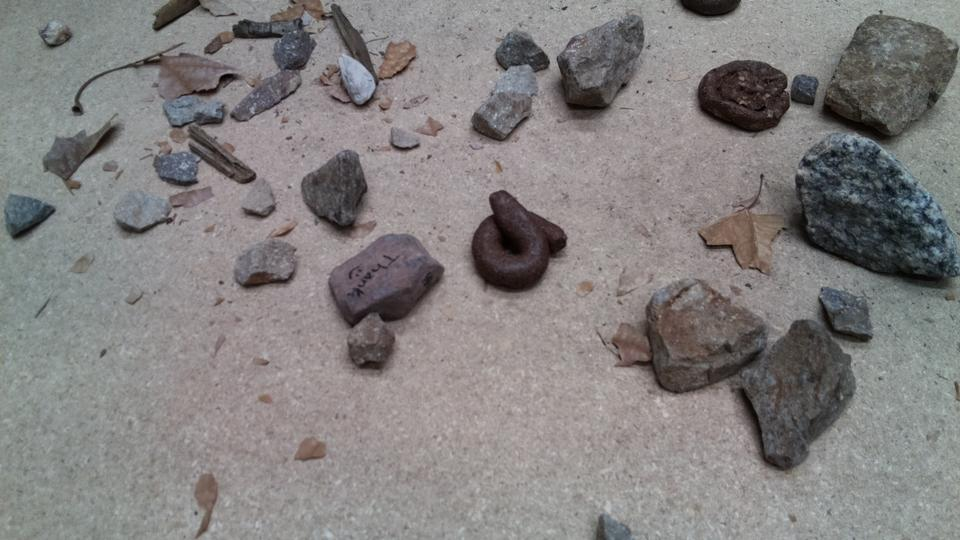poop: (471, 188, 566, 293), (699, 59, 789, 135)
